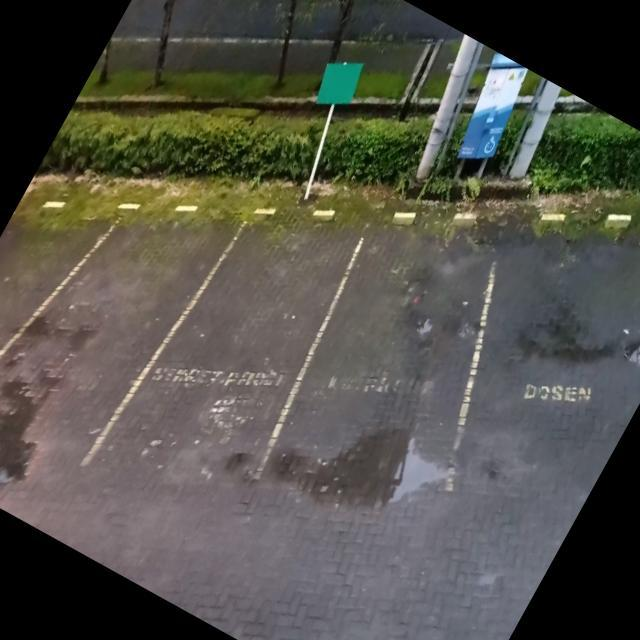empty: (227, 160, 543, 563), (98, 164, 378, 520), (402, 178, 640, 551), (0, 167, 233, 481)
